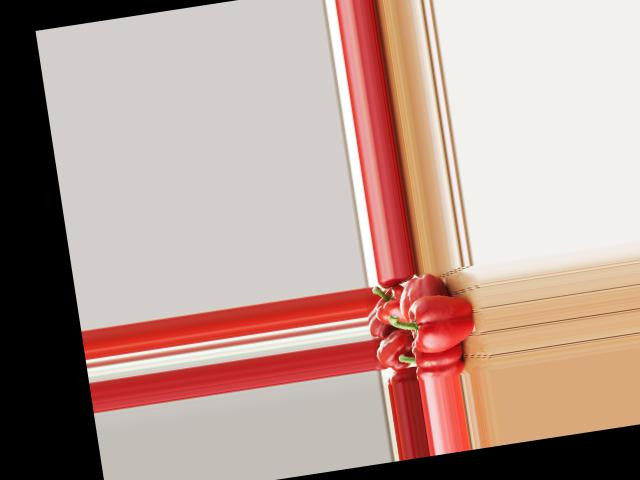bell_pepper: (370, 280, 410, 326)
